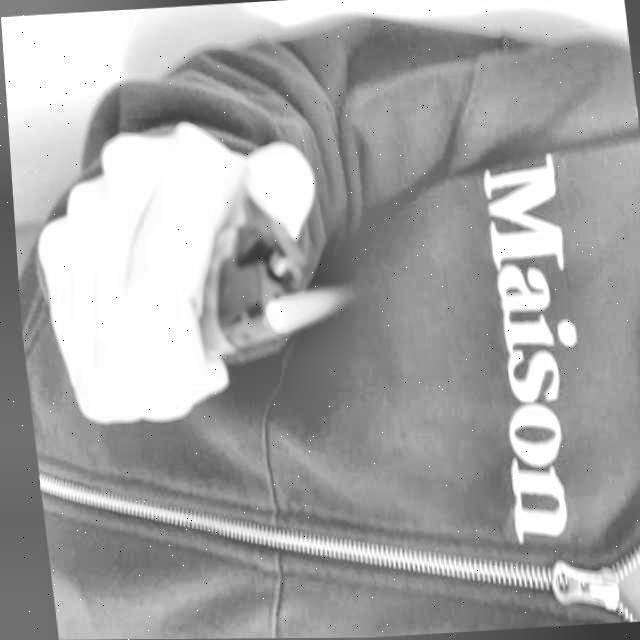Fire: (255, 282, 351, 339)
